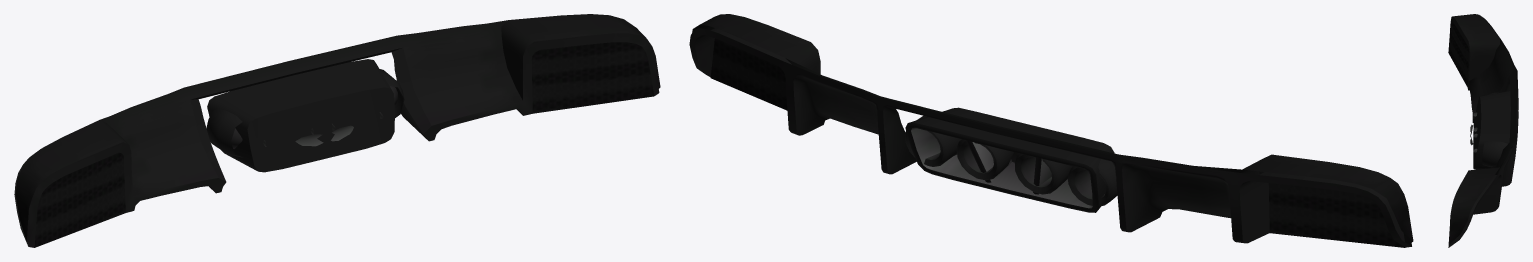
File: sbr_exhaust_s.dae
3 views of the same model, side by side, from view 1: azimuth 30°, elevation 25°; view 2: azimuth 150°, elevation 25°; view 3: azimuth 270°, elevation 25° (orthographic). The views are drawn at different scales.
Parts seen in each view (by area): view 1: sbr_bumper_R_s_lipc, sbr_exhausttip_center_ss, sbr_exhausttip_center; view 2: sbr_bumper_R_s_lipc, sbr_exhausttip_center_ss, sbr_exhausttip_center, sbr_exhausttip_center_s; view 3: sbr_bumper_R_s_lipc, sbr_exhausttip_center_ss, sbr_exhausttip_center, sbr_exhausttip_center_s.
Part boxes in pixels (left/top/right/bottom): sbr_bumper_R_s_lipc: left=14, top=14, right=660, bottom=247; sbr_exhausttip_center_ss: left=207, top=59, right=394, bottom=172; sbr_exhausttip_center: left=206, top=69, right=404, bottom=157; sbr_bumper_R_s_lipc: left=689, top=14, right=1413, bottom=247; sbr_exhausttip_center_ss: left=905, top=107, right=1114, bottom=212; sbr_exhausttip_center: left=904, top=115, right=1117, bottom=206; sbr_exhausttip_center_s: left=911, top=128, right=1092, bottom=208; sbr_bumper_R_s_lipc: left=1448, top=14, right=1518, bottom=247; sbr_exhausttip_center_ss: left=1473, top=91, right=1518, bottom=169; sbr_exhausttip_center: left=1470, top=92, right=1507, bottom=167; sbr_exhausttip_center_s: left=1473, top=112, right=1477, bottom=152.
Size of the model in its own units: 1.46 by 0.2368 by 0.1794.
